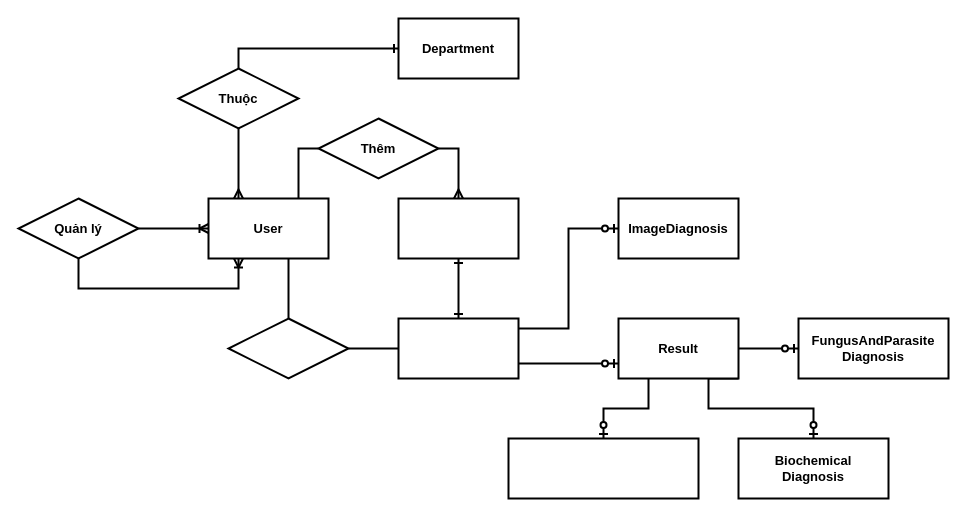
The diagram is 966 pixels wide and 516 high, and some of its shapes have lost their labels. The shapes that lost their labels are listed below. From the top down, each one's centre as x and y in pixels, then its label:
At (458,228): "Patient".
At (288,348): "Tạo".
At (458,348): "Diagnosis".
At (603,468): "HematologyAndImmunology Diagnosis".
